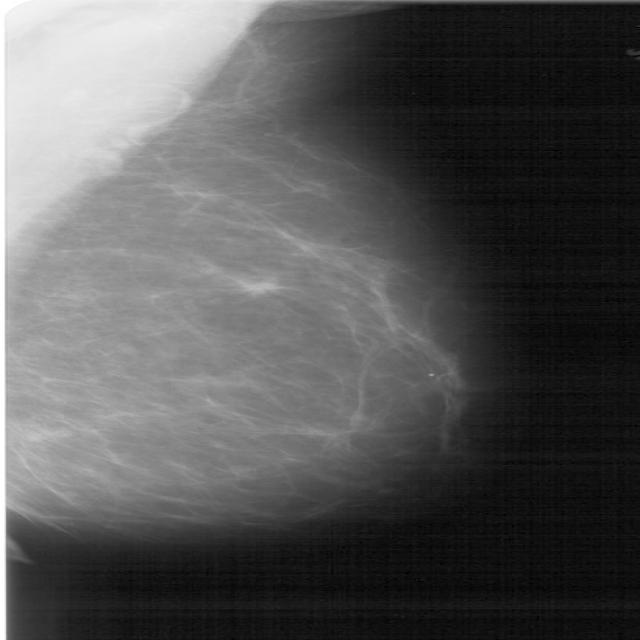tumour: (235, 277, 282, 296)
